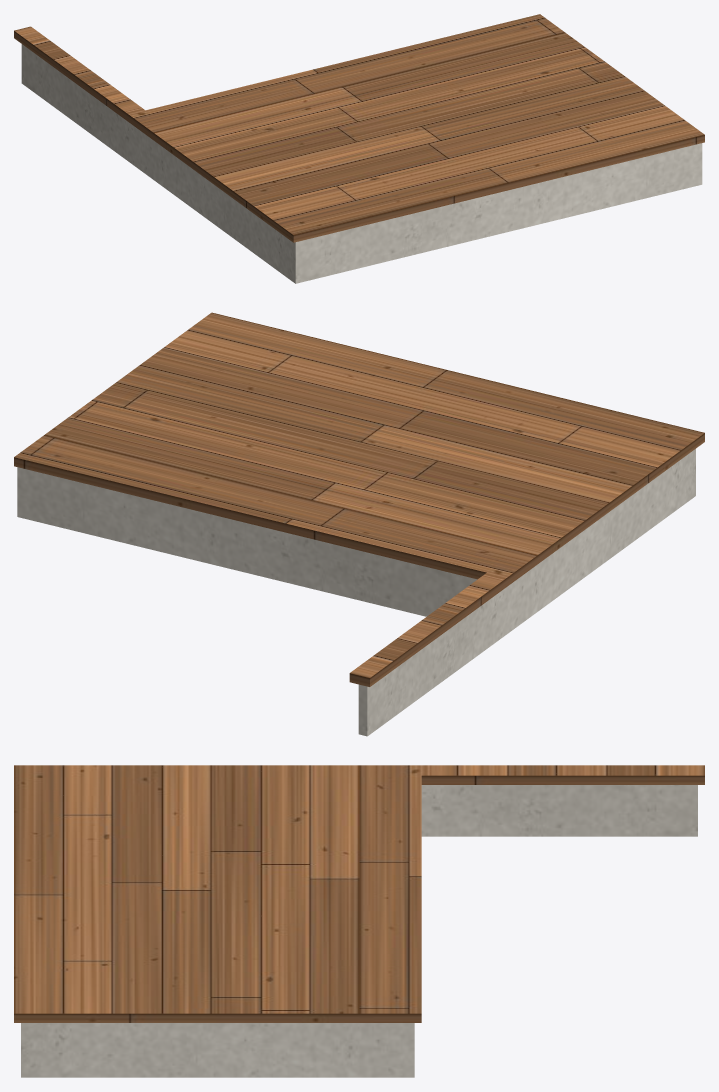
File: floor_wood_u_e0_30_0_0_h3.glb
The picture shows the model from 3 angles, top to bottom: view 1: azimuth 30°, elevation 25°; view 2: azimuth 150°, elevation 25°; view 3: azimuth 270°, elevation 25°; orthographic projection. The views are drawn at different scales.
Parts seen in each view (by area): view 1: floor_wood_u_e0_30_0_0_h3_floor, floor_wood_u_e0_30_0_0_h3_plaster; view 2: floor_wood_u_e0_30_0_0_h3_floor, floor_wood_u_e0_30_0_0_h3_plaster; view 3: floor_wood_u_e0_30_0_0_h3_floor, floor_wood_u_e0_30_0_0_h3_plaster.
Boxes of the visible parts, box(x1,y1,x2,y2) form: floor_wood_u_e0_30_0_0_h3_floor: box(14, 14, 704, 242); floor_wood_u_e0_30_0_0_h3_plaster: box(21, 44, 702, 283); floor_wood_u_e0_30_0_0_h3_floor: box(14, 312, 704, 686); floor_wood_u_e0_30_0_0_h3_plaster: box(17, 449, 695, 736); floor_wood_u_e0_30_0_0_h3_floor: box(14, 765, 704, 1022); floor_wood_u_e0_30_0_0_h3_plaster: box(21, 785, 697, 1077).
Size of the model in its own units: 1.7 by 0.205 by 2.
2 materials, 2 textured.
